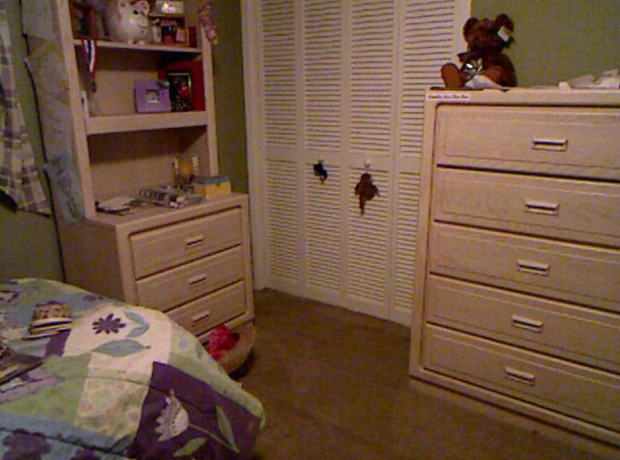cabinet: (417, 86, 620, 410)
cabinetDoor: (445, 111, 620, 169), (443, 186, 618, 222), (444, 246, 619, 279), (441, 309, 616, 337), (434, 366, 610, 393), (161, 225, 229, 251), (164, 270, 232, 296), (183, 303, 233, 329)
